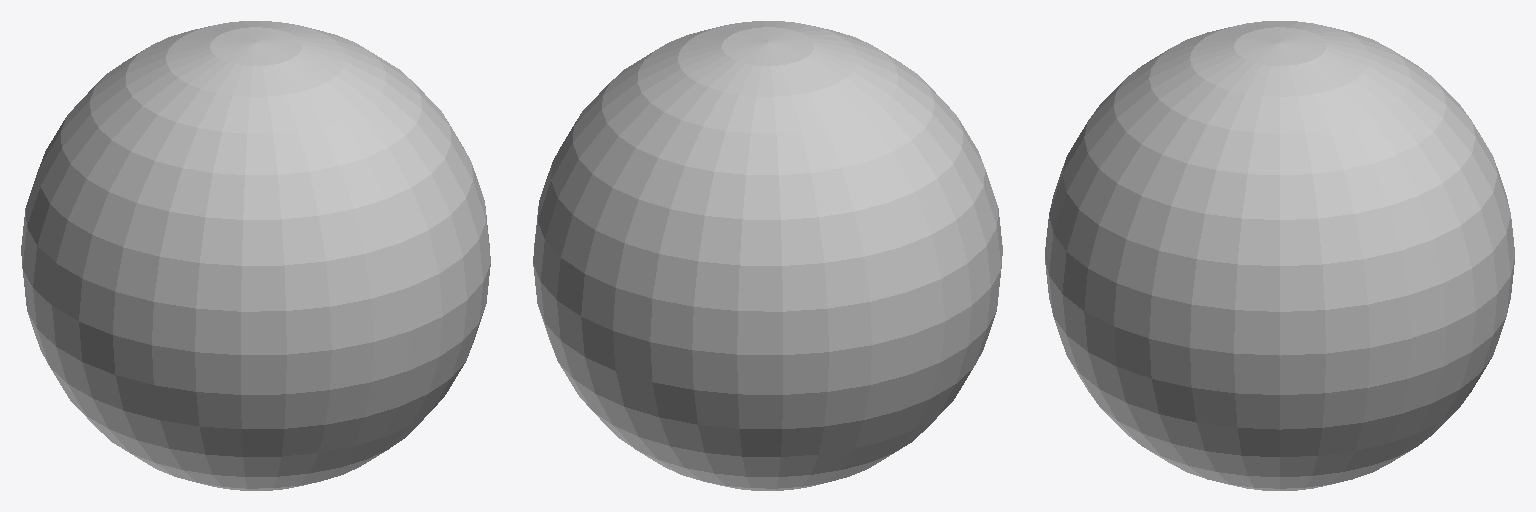
The model's file is particle_object_sphere.obj.
3 renders of one model, left to right at view 1: azimuth 30°, elevation 25°; view 2: azimuth 150°, elevation 25°; view 3: azimuth 270°, elevation 25°, orthographic.
Visible parts, largest first — view 1: 球_球.001; view 2: 球_球.001; view 3: 球_球.001.
Part boxes in pixels (bbox=[...]): 球_球.001: bbox=[21, 21, 490, 490]; 球_球.001: bbox=[533, 21, 1002, 490]; 球_球.001: bbox=[1045, 21, 1514, 490].
Bounding box in the file's own units: 1.4 × 1.4 × 1.4.